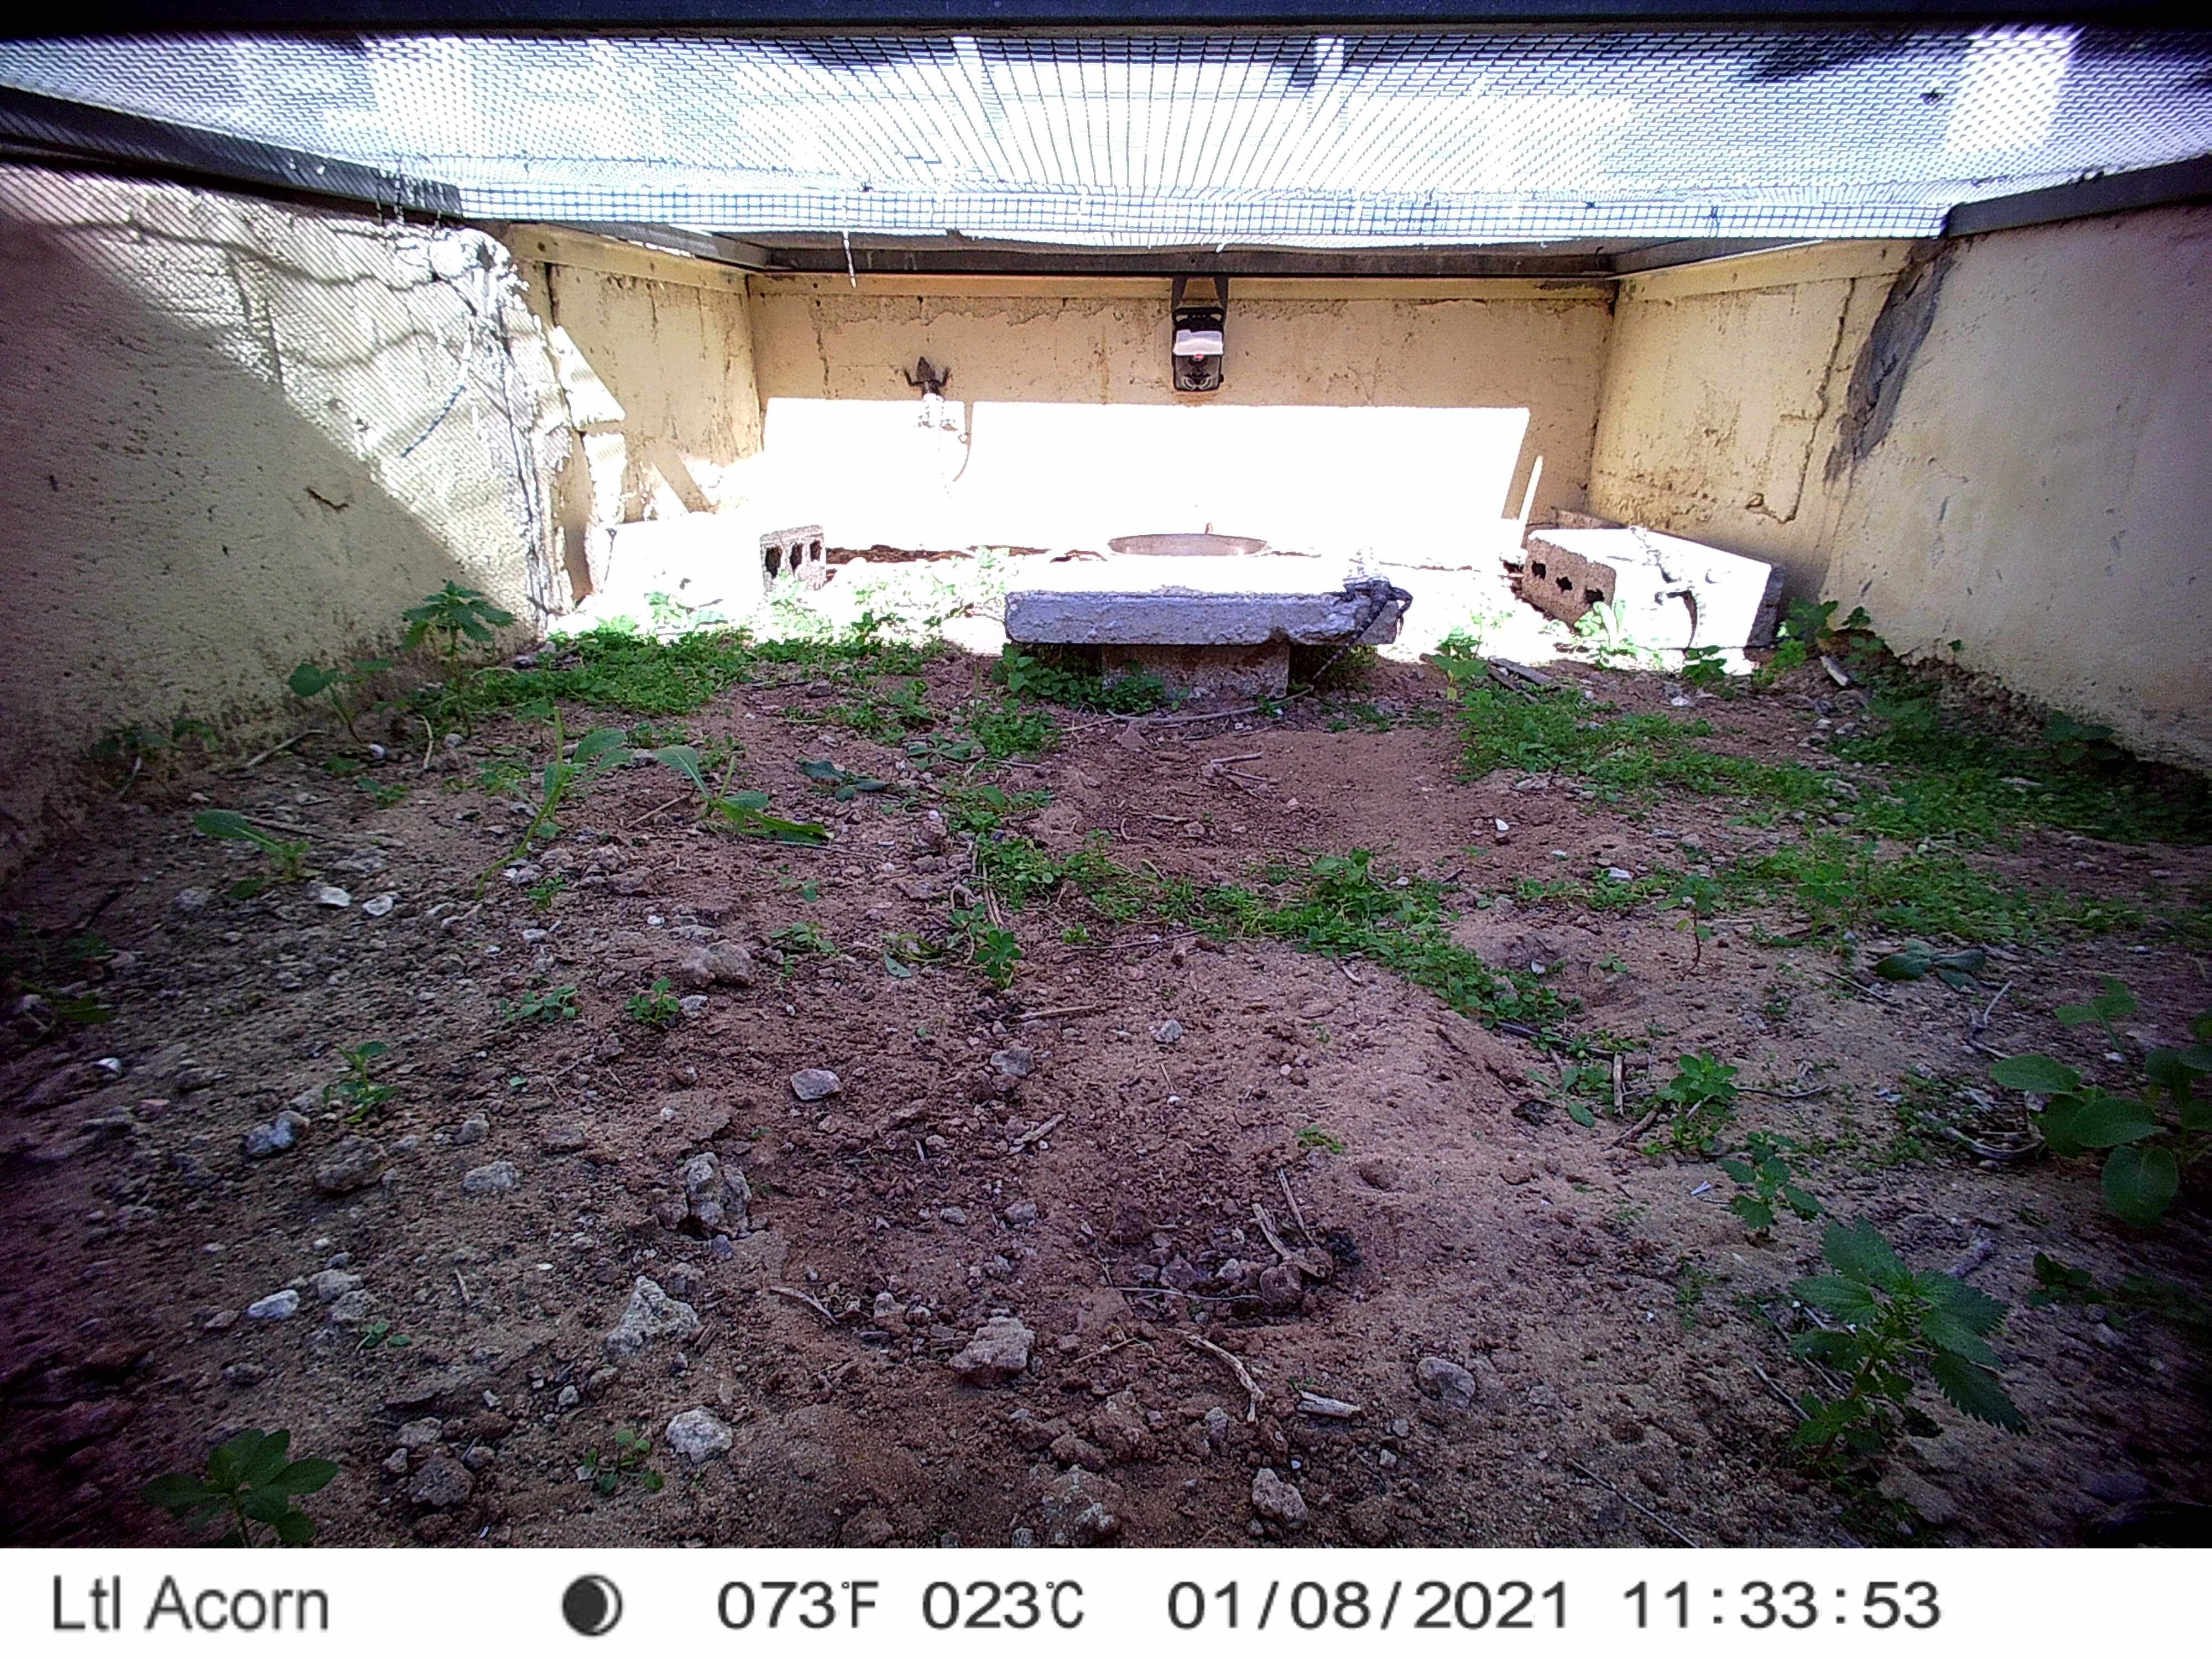lizard: (1301, 547, 1413, 685), (1629, 523, 1731, 669), (897, 352, 984, 500)
